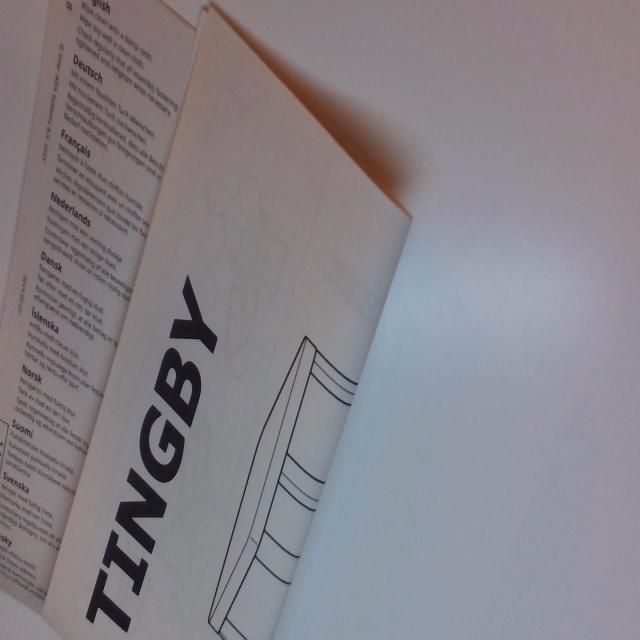Paper: (0, 0, 409, 640)
